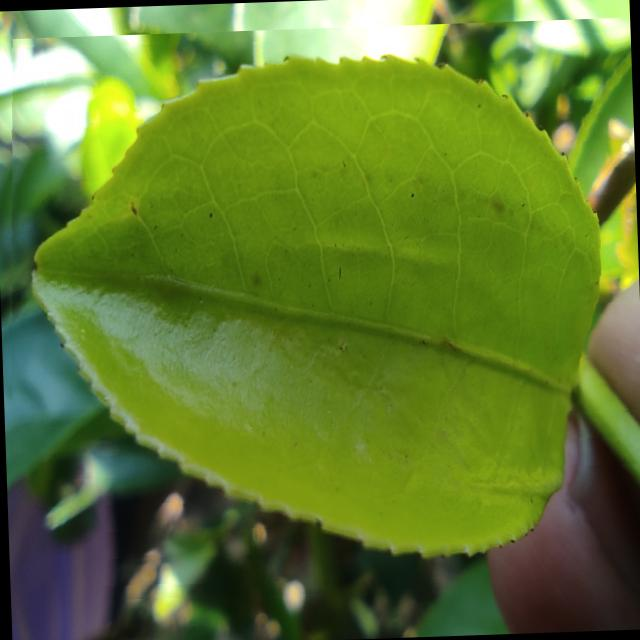Category C(4-7 days): (0, 17, 640, 607)
